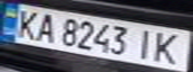2: (75, 18, 96, 52)
3: (109, 24, 133, 57)
4: (90, 20, 112, 55)
8: (54, 16, 81, 48)
A: (30, 11, 60, 43)
I: (130, 26, 160, 61)
K: (148, 29, 190, 66), (9, 7, 42, 40)
